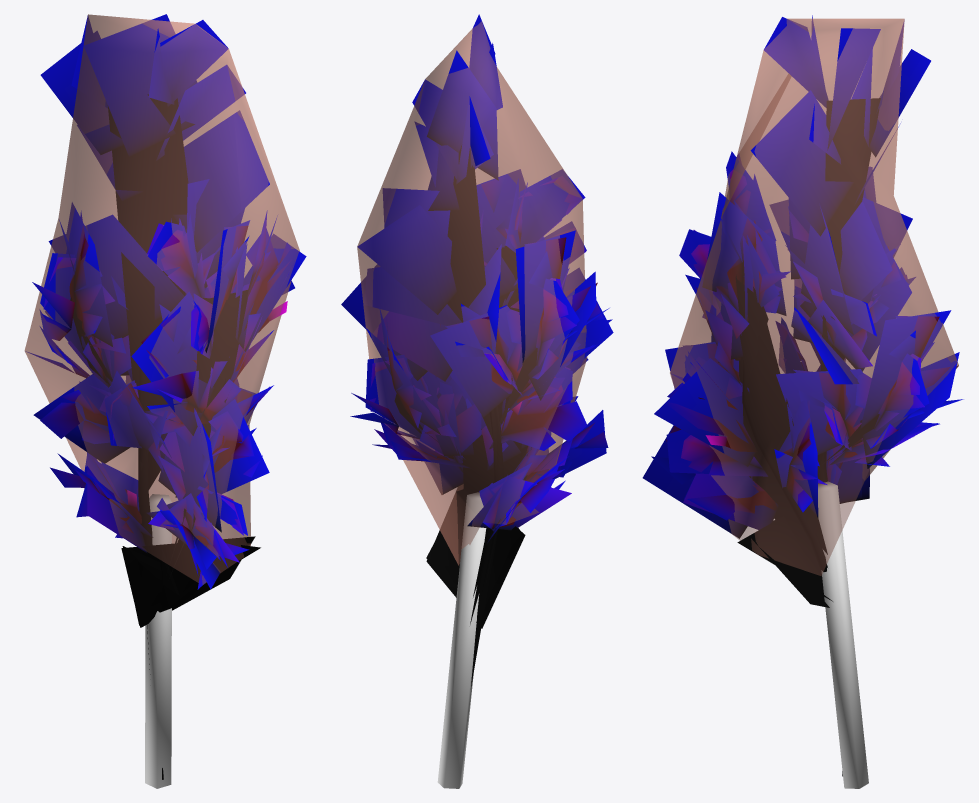
File: tree_beech_small_b.dae
The picture shows the model from 3 angles, left to right: view 1: azimuth 30°, elevation 25°; view 2: azimuth 150°, elevation 25°; view 3: azimuth 270°, elevation 25°; orthographic projection. The views are drawn at different scales.
Parts seen in each view (by area): view 1: Colmesh_small_b-1, beech_small_b_a600, beech_small_b_a1000, beech_small_b_a350; view 2: Colmesh_small_b-1, beech_small_b_a600, beech_small_b_a1000, beech_small_b_a350; view 3: Colmesh_small_b-1, beech_small_b_a1000, beech_small_b_a600, beech_small_b_a350.
Part boxes in pixels (left/top/right/bottom): Colmesh_small_b-1: left=24, top=14, right=299, bottom=788; beech_small_b_a600: left=40, top=14, right=306, bottom=627; beech_small_b_a1000: left=26, top=28, right=294, bottom=779; beech_small_b_a350: left=33, top=19, right=304, bottom=674; Colmesh_small_b-1: left=357, top=21, right=587, bottom=788; beech_small_b_a600: left=357, top=43, right=613, bottom=628; beech_small_b_a1000: left=341, top=14, right=612, bottom=628; beech_small_b_a350: left=378, top=275, right=595, bottom=686; Colmesh_small_b-1: left=670, top=18, right=958, bottom=788; beech_small_b_a1000: left=651, top=15, right=963, bottom=776; beech_small_b_a600: left=642, top=59, right=959, bottom=607; beech_small_b_a350: left=668, top=247, right=936, bottom=517.
Bounding box in the file's own units: 4.22 × 4.35 × 11.52.
